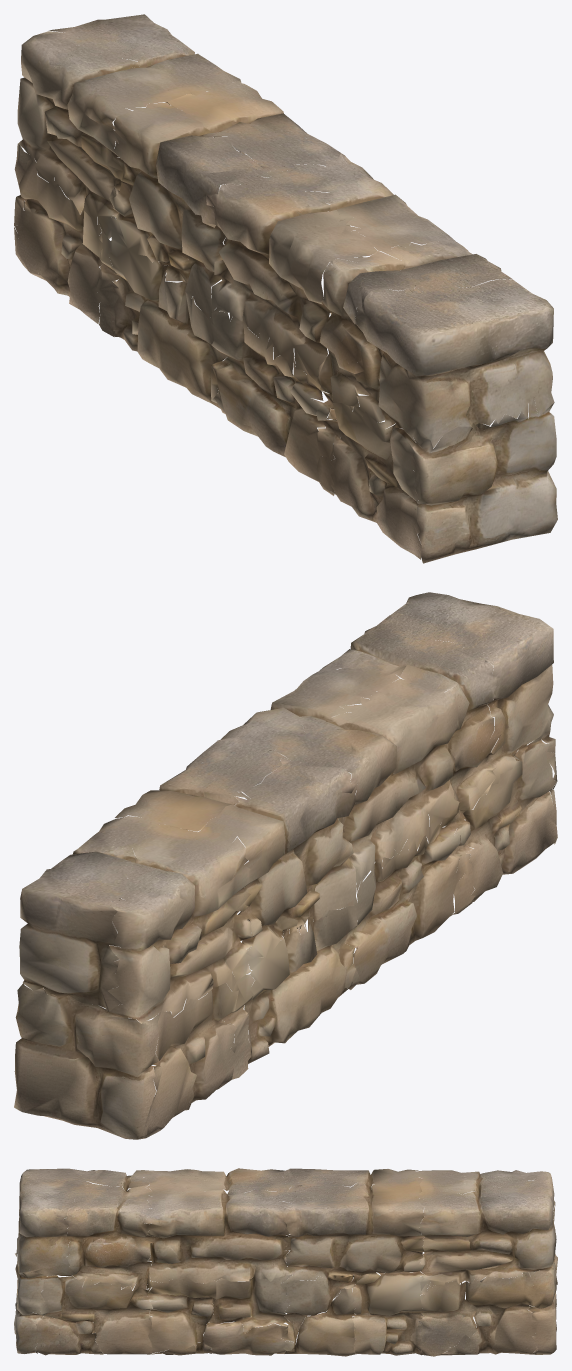
The model's file is low-wall-perimeter.glb.
The picture shows the model from 3 angles, top to bottom: view 1: azimuth 30°, elevation 25°; view 2: azimuth 150°, elevation 25°; view 3: azimuth 270°, elevation 25°; orthographic projection. The views are drawn at different scales.
Visible parts, largest first — view 1: tripo_node_e17d26ce-5ecd-46d4-9822-f97adb7ac5c1; view 2: tripo_node_e17d26ce-5ecd-46d4-9822-f97adb7ac5c1; view 3: tripo_node_e17d26ce-5ecd-46d4-9822-f97adb7ac5c1.
Part boxes in pixels (<box>): tripo_node_e17d26ce-5ecd-46d4-9822-f97adb7ac5c1: <box>14,14,557,563</box>; tripo_node_e17d26ce-5ecd-46d4-9822-f97adb7ac5c1: <box>14,592,557,1139</box>; tripo_node_e17d26ce-5ecd-46d4-9822-f97adb7ac5c1: <box>14,1168,557,1356</box>.
Size of the model in its own units: 0.2042 by 0.3 by 0.999.
1 material, 1 textured.
